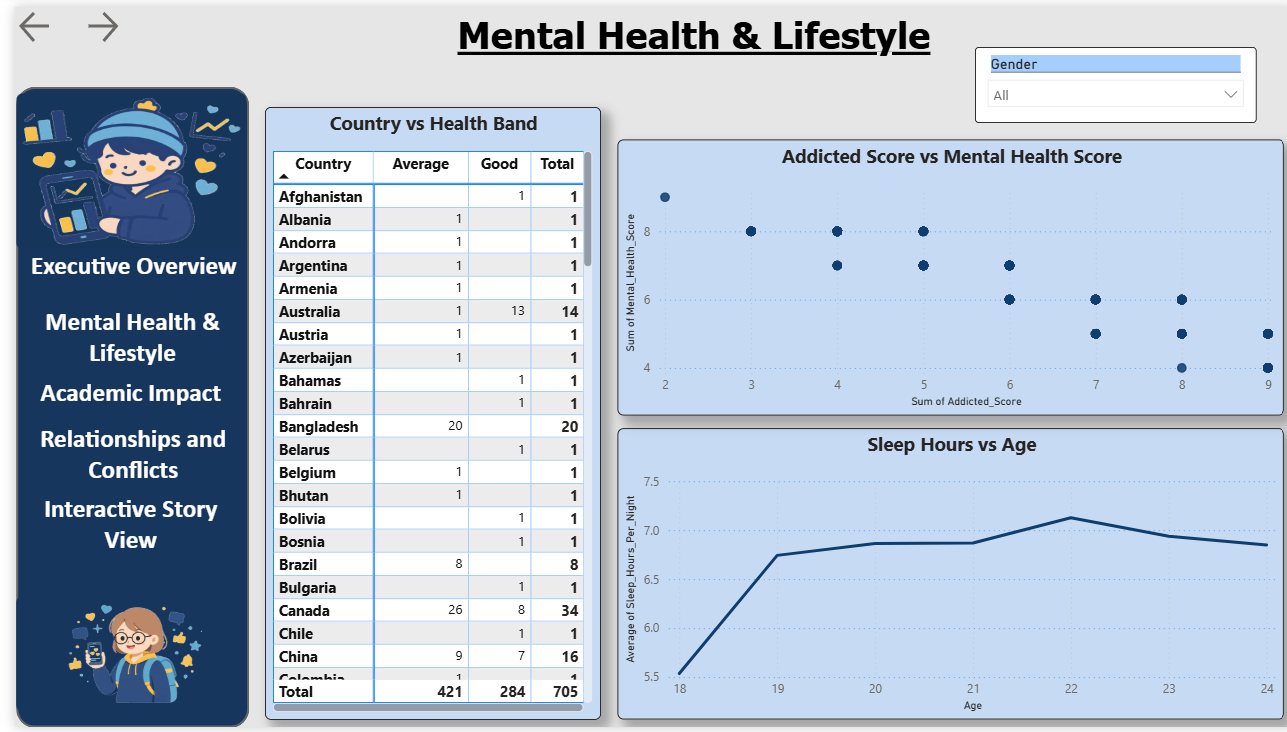

The dashboard page shown, as its layout file describes it:
{"tool":"powerbi","page":{"name":"Mental Health & Lifestyle","canvas":[1280,720],"ordinal":1},"visuals":[{"type":"textbox","box":[437,0,522.2,75.3],"z":0},{"type":"pivotTable","title":"Country vs Health Band","fields":{"Columns":["Student Details.Health Band"],"Rows":["Student Details.Country"],"Values":["CountNonNull(Student Details.Student_ID)"]},"box":[250,100,335.7,612.9],"z":1000},{"type":"scatterChart","title":"Addicted Score vs Mental Health Score","fields":{"X":["Sum(Student Details.Addicted_Score)"],"Y":["Sum(Student Details.Mental_Health_Score)"],"Category":["Student Details.Student_ID"]},"box":[602.9,132.9,667.1,275.7],"z":2000},{"type":"lineChart","title":"Sleep Hours vs Age","fields":{"Category":["Student Details.Age"],"Y":["Avg(Student Details.Sleep_Hours_Per_Night)"]},"box":[602.9,421.4,667.1,291.4],"z":3000},{"type":"slicer","fields":{"Values":["Student Details.Gender"]},"box":[960,40,281.4,75.7],"z":4000},{"type":"actionButton","box":[0,0,43.8,40],"z":5000},{"type":"actionButton","box":[67.5,0,100,40],"z":6000},{"type":"group","id":"g1","title":"Group 1","box":[1.2,80,233.8,640],"z":7000},{"type":"group","id":"g2","title":"Group 1","box":[1.2,85.7,230.4,618.9],"z":8000},{"type":"shape","box":[1.4,80,232.8,640.6],"z":9000,"group":"g1"},{"type":"actionButton","title":"Executive Overview","box":[1.9,242.4,232.9,58.9],"z":10000,"group":"g1"},{"type":"image","box":[1.2,85.7,230.4,155.6],"z":11000,"group":"g2"},{"type":"actionButton","title":"Mental Health & Lifestyle","box":[1.4,298.3,232.8,62.6],"z":11000,"group":"g1"},{"type":"actionButton","title":"Academic Impact","box":[1.2,369.4,229.2,45],"z":12000,"group":"g1"},{"type":"image","box":[1.2,588.8,230.4,115.8],"z":12000,"group":"g2"},{"type":"actionButton","title":"Relationships and Conflicts","box":[1.2,415.7,234,68.8],"z":13000,"group":"g1"},{"type":"actionButton","title":"Interactive Story View","box":[1.2,485.7,229.2,71.3],"z":14000,"group":"g1"}]}

Visuals, with their boxes in screenshot pixels (x1, y1, x2, y2), scaled from the page's 1280x720 canvas onto the 1287x732 screenshot:
textbox: 439,0,964,77
"Country vs Health Band" pivotTable: 251,102,589,725
"Addicted Score vs Mental Health Score" scatterChart: 606,135,1277,415
"Sleep Hours vs Age" lineChart: 606,428,1277,725
slicer - Student Details.Gender: 965,41,1248,118
actionButton: 0,0,44,41
actionButton: 68,0,168,41
"Group 1" group: 1,81,236,731
"Group 1" group: 1,87,233,716
shape: 1,81,235,731
"Executive Overview" actionButton: 2,246,236,306
image: 1,87,233,245
"Mental Health & Lifestyle" actionButton: 1,303,235,367
"Academic Impact" actionButton: 1,376,232,421
image: 1,599,233,716
"Relationships and Conflicts" actionButton: 1,423,236,493
"Interactive Story View" actionButton: 1,494,232,566
